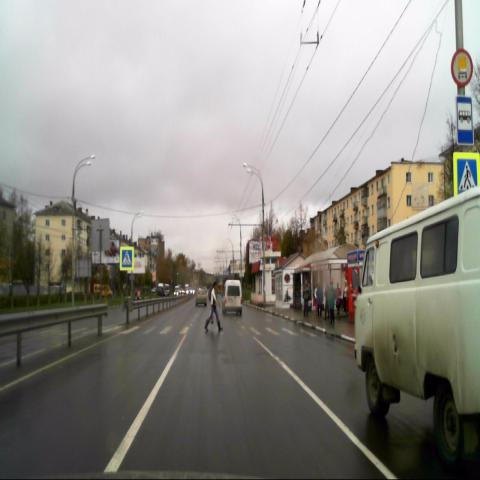3_32: (450, 48, 474, 87)
5_16: (456, 97, 474, 146)
5_19_1: (454, 153, 480, 201), (120, 246, 134, 271)
